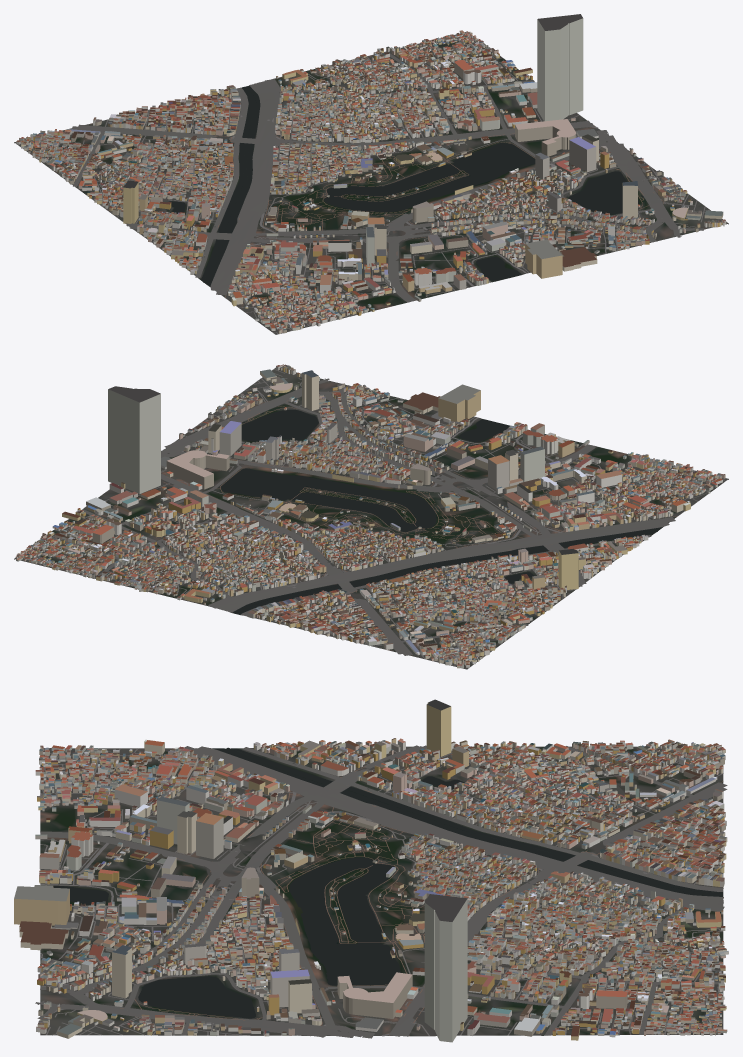
3 views of the same model, one above another, from view 1: azimuth 30°, elevation 25°; view 2: azimuth 150°, elevation 25°; view 3: azimuth 270°, elevation 25° (orthographic). The views are drawn at different scales.
Visible parts, largest first — view 1: buildings, ground, roads, water; view 2: buildings, ground, roads, water; view 3: buildings, ground, roads, water.
Boxes of the visible parts, x1=… form: buildings: x1=16, y1=14, x2=726, y2=334; ground: x1=14, y1=32, x2=728, y2=334; roads: x1=28, y1=35, x2=721, y2=334; water: x1=169, y1=85, x2=643, y2=286; buildings: x1=15, y1=364, x2=725, y2=668; ground: x1=14, y1=367, x2=728, y2=669; roads: x1=23, y1=369, x2=726, y2=668; water: x1=83, y1=409, x2=662, y2=614; buildings: x1=14, y1=699, x2=728, y2=1042; ground: x1=40, y1=746, x2=723, y2=1036; roads: x1=35, y1=745, x2=727, y2=1038; water: x1=53, y1=747, x2=723, y2=1035.
Size of the model in its own units: 1442 by 277 by 1468.
